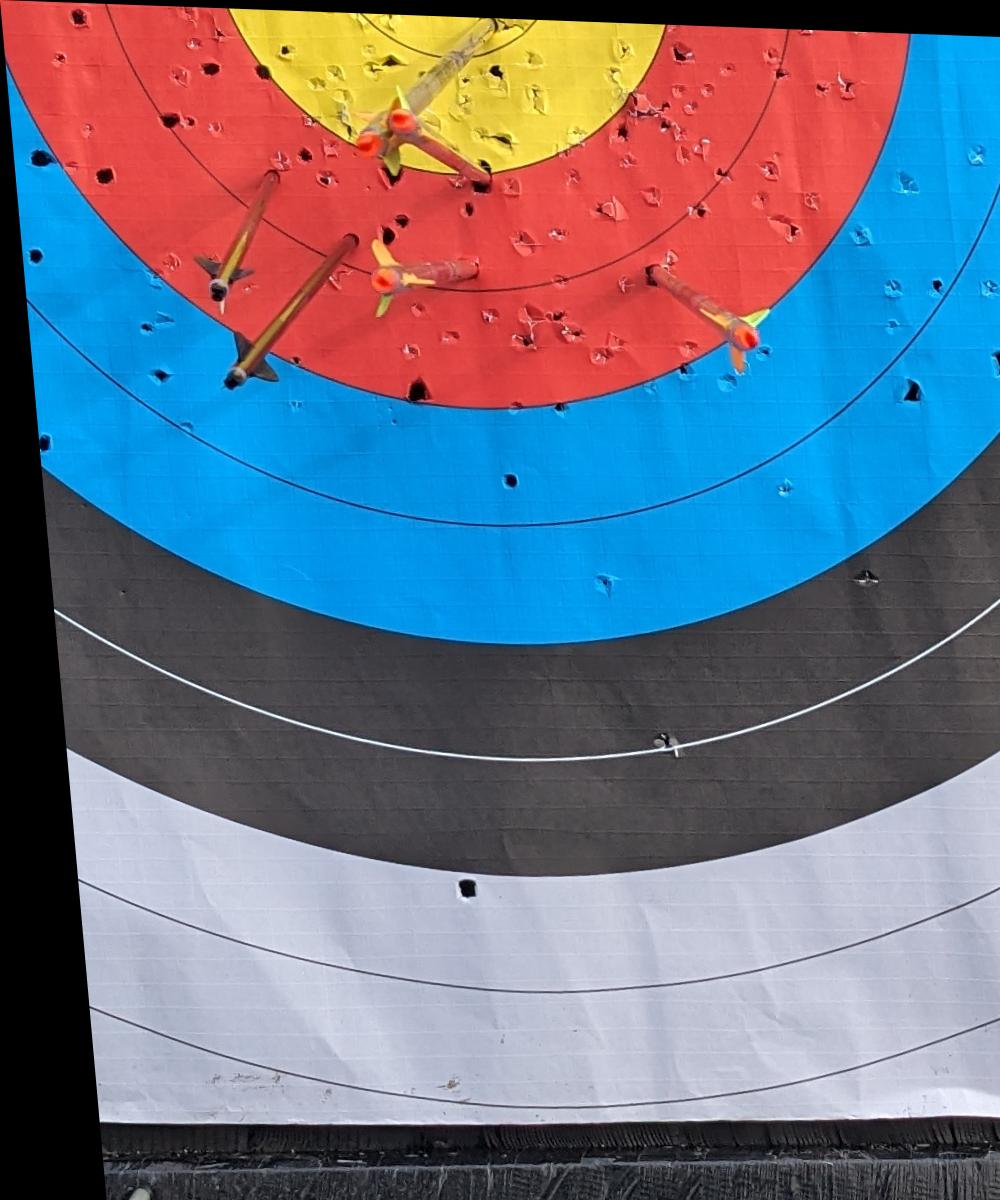8-Ring: (97, 3, 793, 296)
9-Ring: (225, 7, 667, 179)
Arrow: (202, 205, 356, 407), (170, 159, 302, 315), (625, 260, 766, 370), (372, 81, 508, 186), (363, 230, 476, 315)
